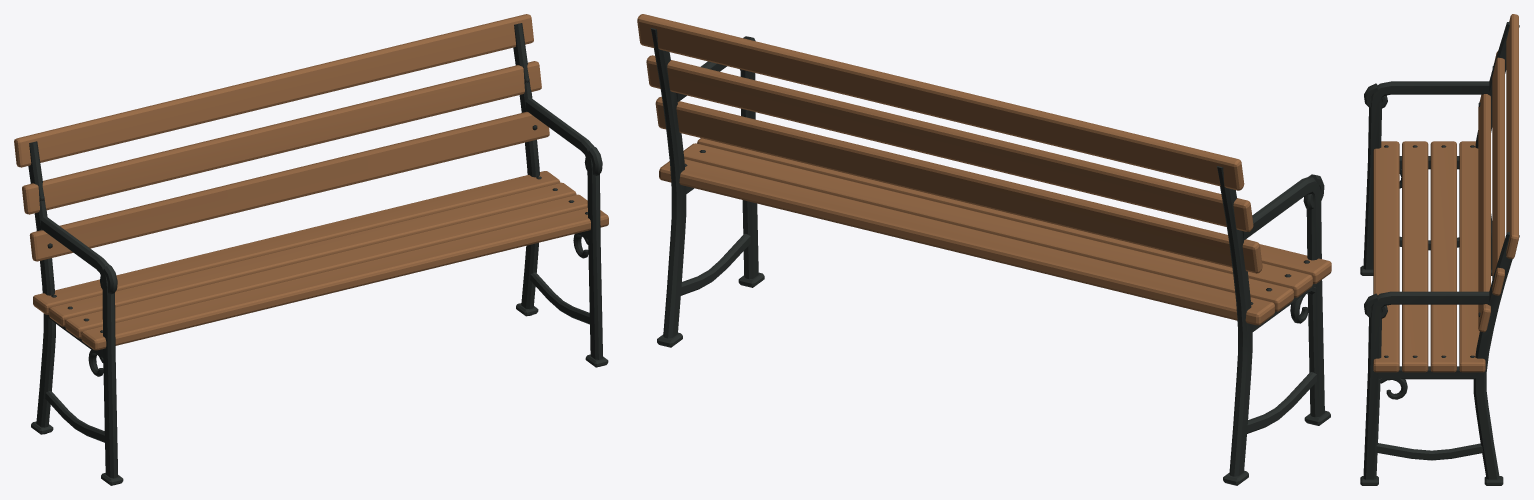
Rendered from bench.glb.
3 views of the same model, side by side, from view 1: azimuth 30°, elevation 25°; view 2: azimuth 150°, elevation 25°; view 3: azimuth 270°, elevation 25° (orthographic). The views are drawn at different scales.
Parts seen in each view (by area): view 1: bench; view 2: bench; view 3: bench.
Boxes of the visible parts, x1,y1,x2,y2 form: bench: (14,14,608,485); bench: (637,14,1331,485); bench: (1360,14,1519,485).
Size of the model in its own units: 1.7 by 0.9057 by 0.5122.
